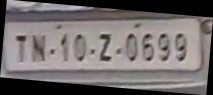character: (30, 34, 48, 61), (71, 33, 87, 62), (157, 31, 171, 61), (98, 32, 112, 61), (123, 32, 137, 60), (140, 32, 153, 62), (174, 32, 186, 61), (15, 34, 27, 62), (60, 33, 68, 63)
